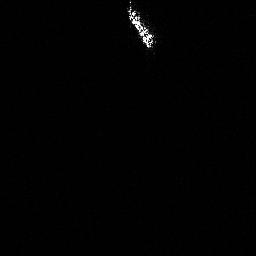ship: (125, 1, 160, 50)
